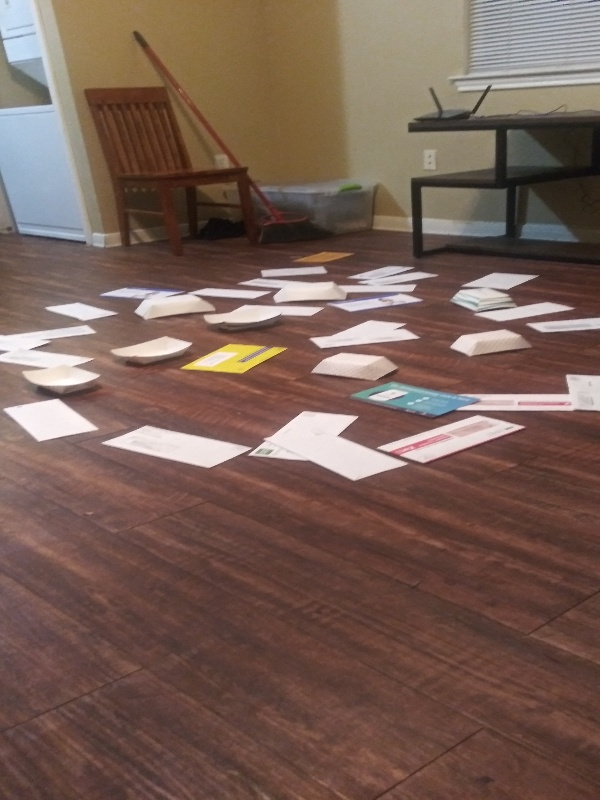plate: (306, 349, 402, 384), (105, 333, 196, 369), (20, 361, 105, 398), (446, 328, 534, 359), (130, 293, 218, 323), (201, 304, 289, 333), (270, 280, 349, 307), (448, 287, 519, 316)
